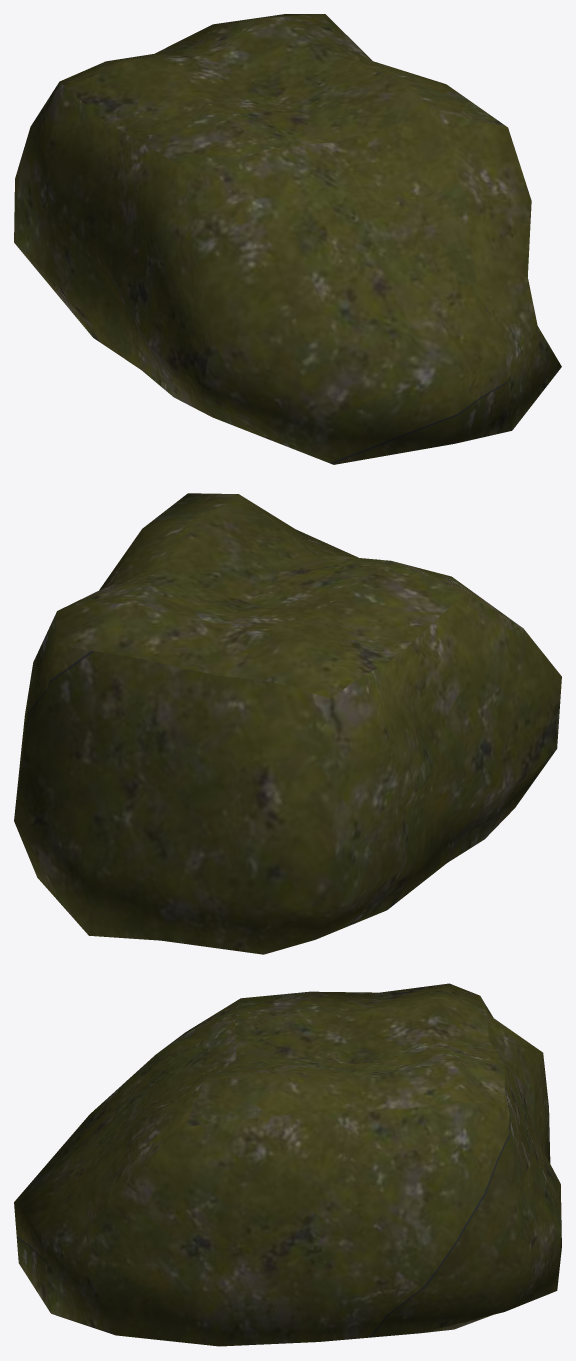
File: Amazonie_Rocher.fbx
3 renders of one model, top to bottom at view 1: azimuth 30°, elevation 25°; view 2: azimuth 150°, elevation 25°; view 3: azimuth 270°, elevation 25°, orthographic. The views are drawn at different scales.
Parts seen in each view (by area): view 1: Cube; view 2: Cube; view 3: Cube.
Boxes of the visible parts, x1,y1,x2,y2 form: Cube: [14, 14, 561, 464]; Cube: [14, 493, 561, 954]; Cube: [14, 983, 561, 1346].
Bounding box in the file's own units: 344 × 259 × 494.
